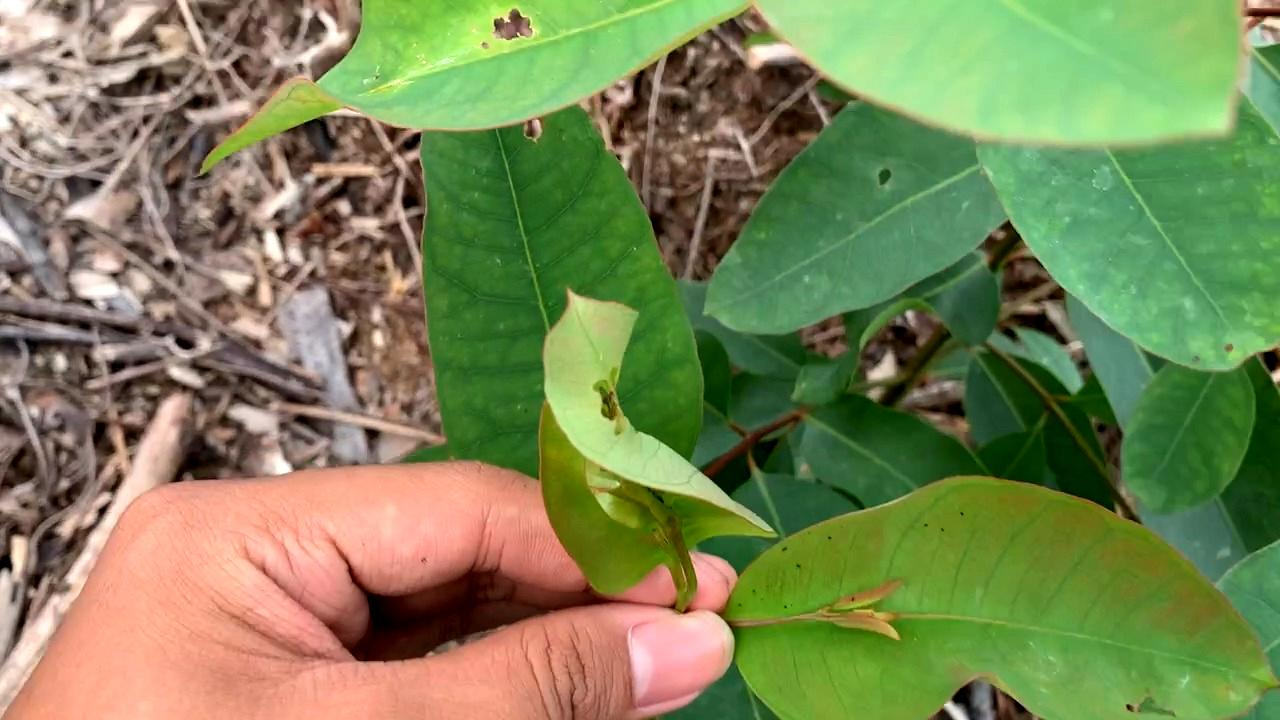Leaf Roller - Leaf: (529, 293, 788, 594)
